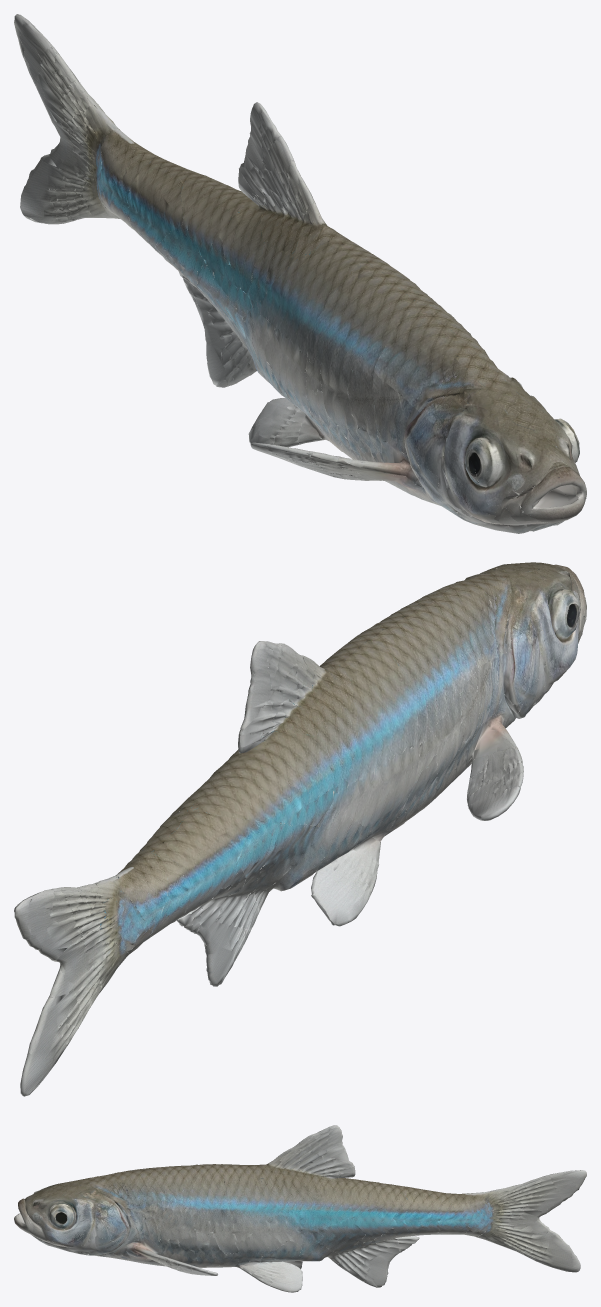
File: slonecznica.glb
3 views of the same model, one above another, from view 1: azimuth 30°, elevation 25°; view 2: azimuth 150°, elevation 25°; view 3: azimuth 270°, elevation 25° (orthographic). The views are drawn at different scales.
Parts seen in each view (by area): view 1: Mesh_0; view 2: Mesh_0; view 3: Mesh_0.
Part boxes in pixels (left/top/right/bottom): Mesh_0: left=14, top=14, right=586, bottom=533; Mesh_0: left=14, top=562, right=586, bottom=1096; Mesh_0: left=14, top=1125, right=586, bottom=1292.
Size of the model in its own units: 0.5153 by 0.5932 by 1.9.
1 material, 1 textured.
